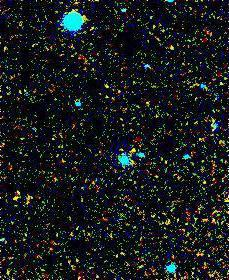star: (118, 135, 148, 165)
